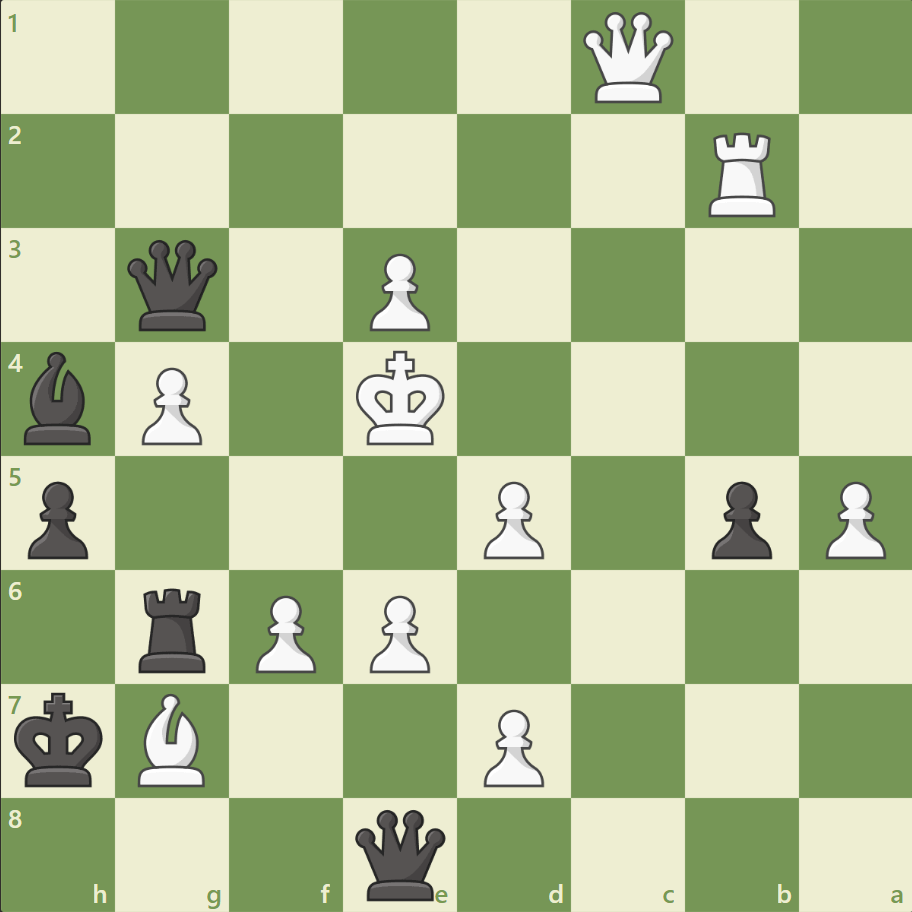B: (131, 687, 215, 790)
K: (351, 344, 451, 452)
P: (474, 700, 549, 791), (247, 586, 322, 677), (474, 473, 549, 564), (133, 359, 208, 450), (361, 586, 435, 677), (815, 473, 889, 564), (361, 246, 435, 337)
Q: (578, 9, 677, 108)
R: (700, 125, 783, 222)
b: (17, 347, 101, 449)
k: (11, 685, 111, 793)
p: (701, 473, 776, 564), (20, 473, 95, 564)
q: (351, 804, 450, 903), (124, 236, 223, 335)
r: (133, 579, 215, 676)
